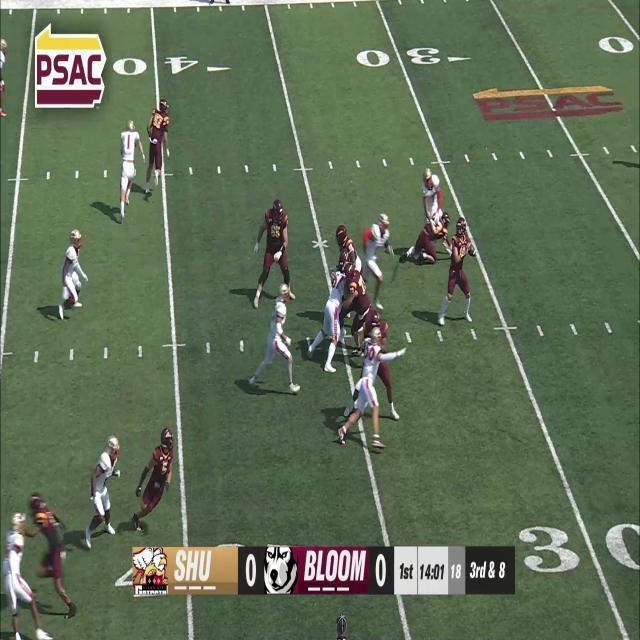football: (464, 242, 476, 258)
